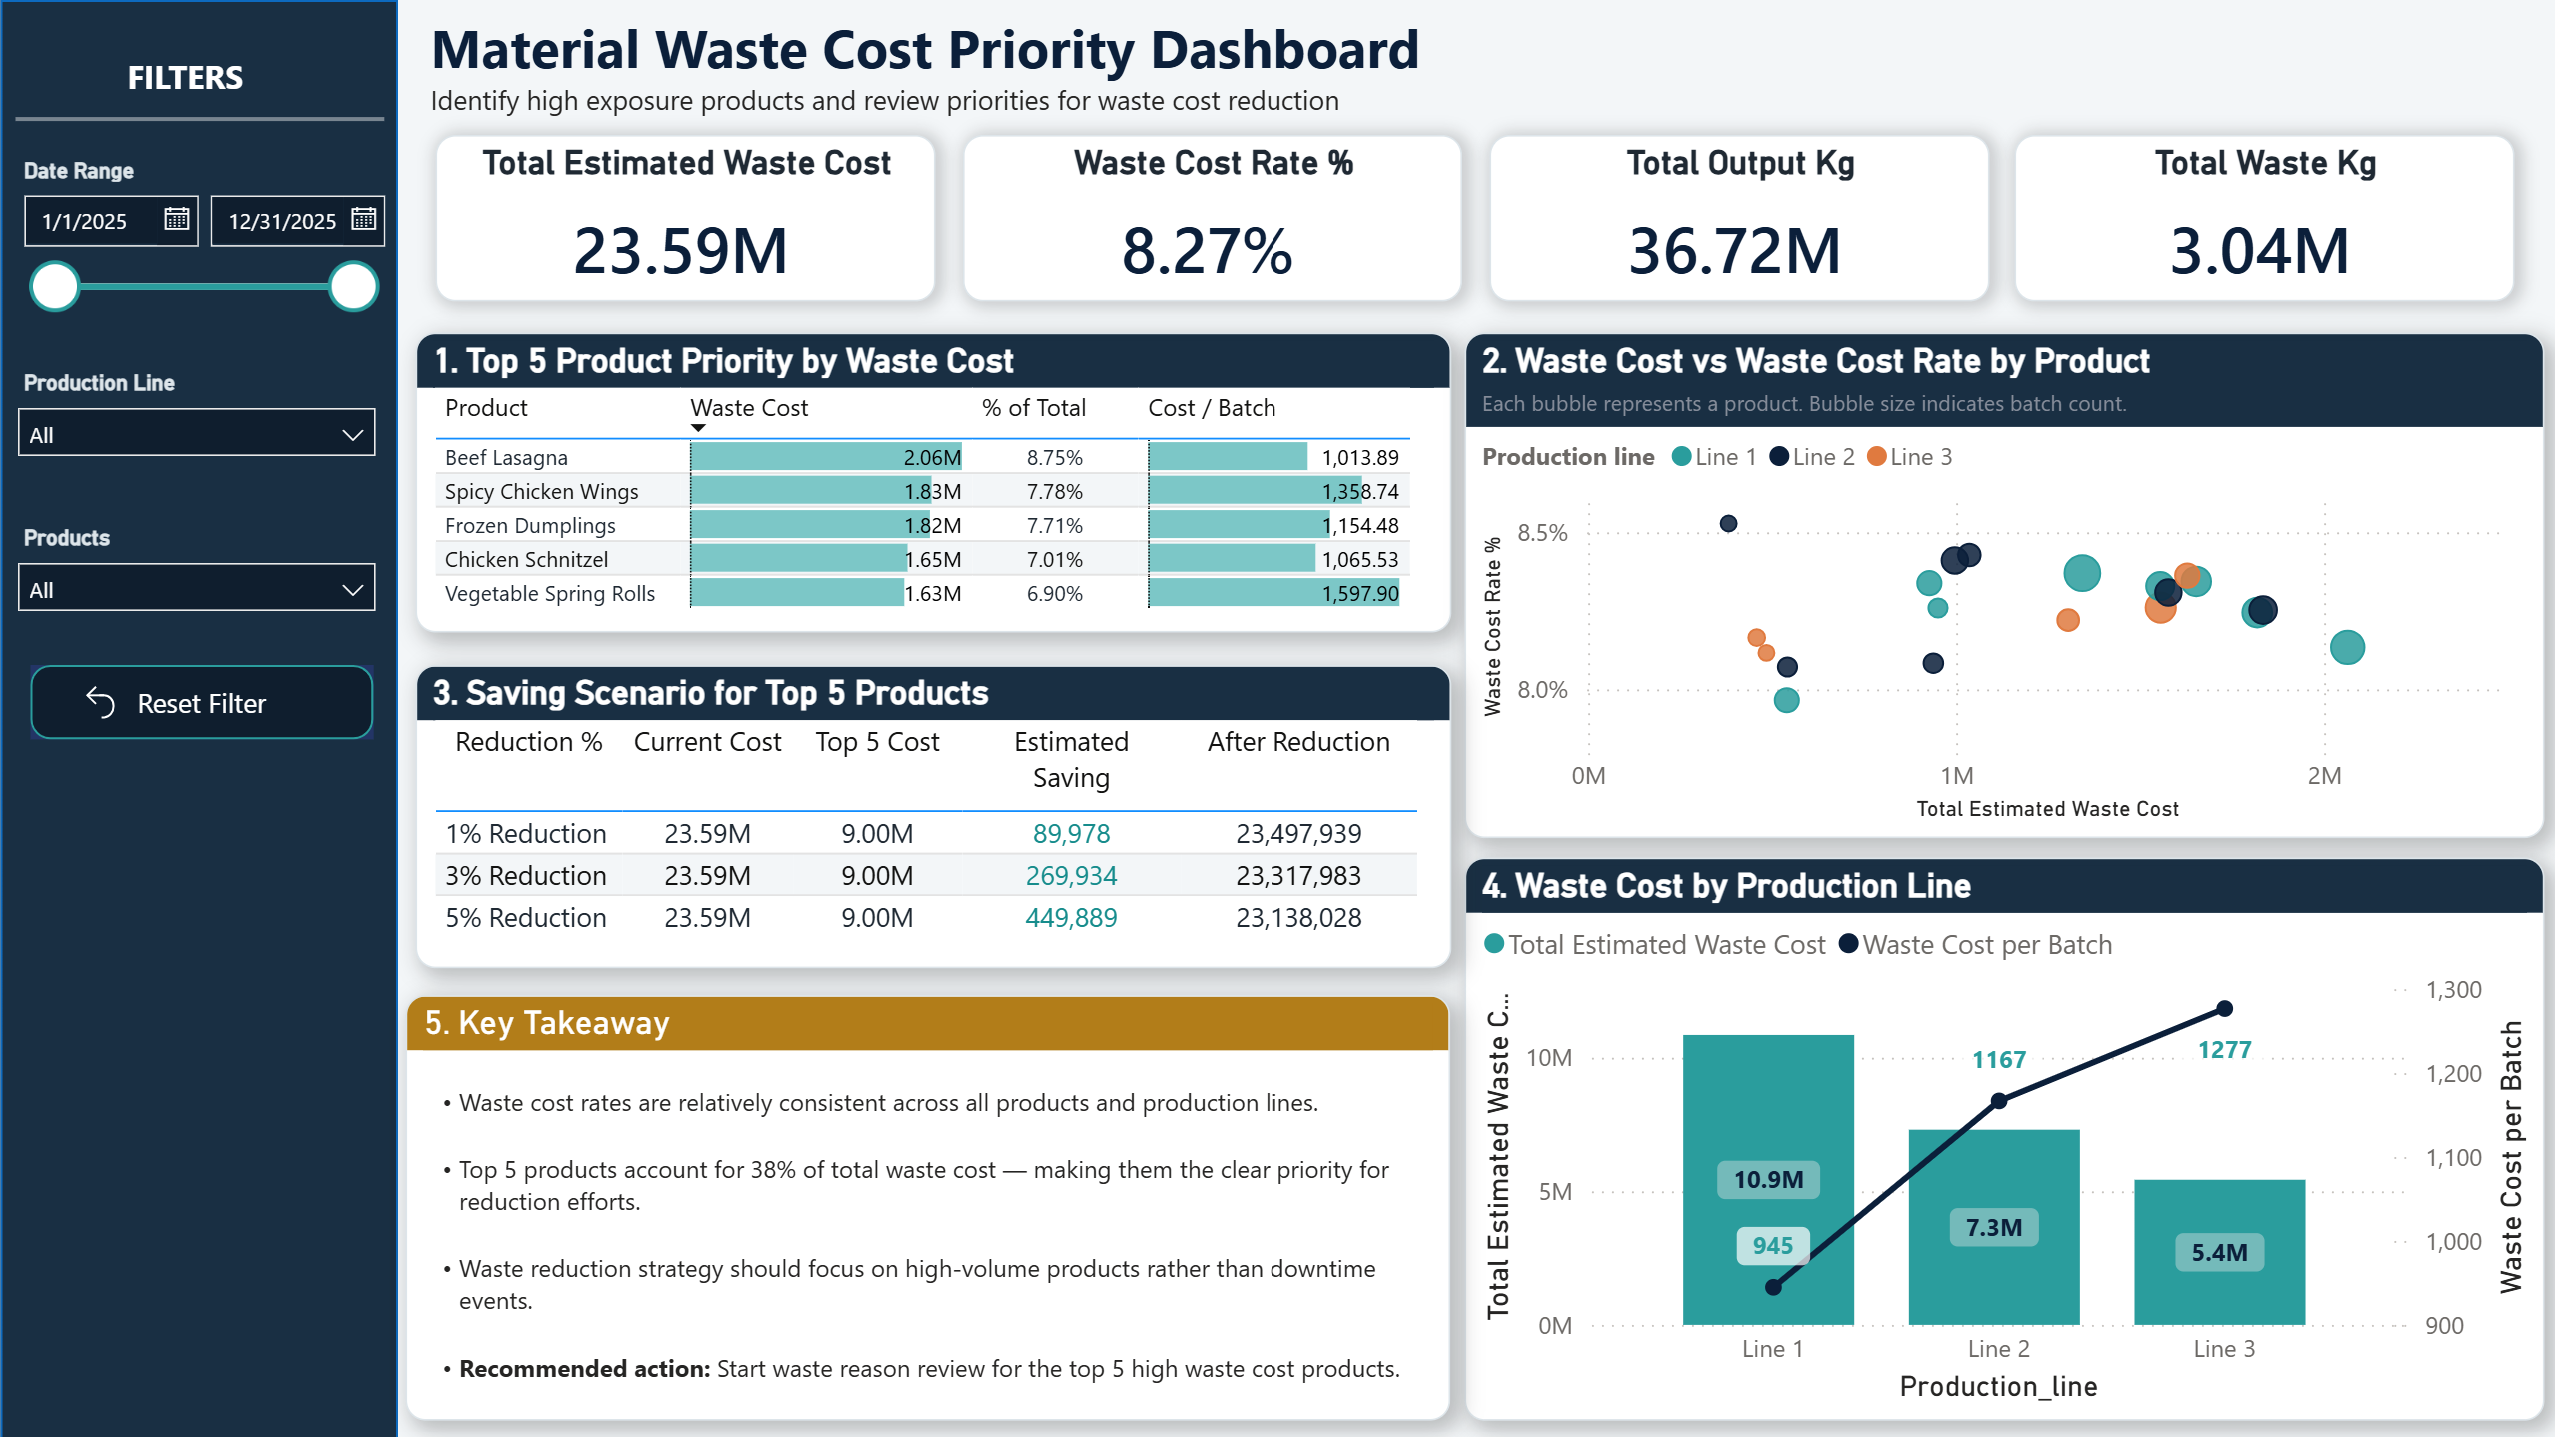

What the dashboard file says about the page in this screenshot:
{"tool":"powerbi","page":{"name":"priority","canvas":[1280,720],"ordinal":0},"visuals":[{"type":"shape","box":[1.2,0,198.8,720],"z":0},{"type":"textbox","box":[211.2,0,1067.5,73.8],"z":1000},{"type":"actionButton","box":[0,17.3,187.3,40],"z":2000},{"type":"slicer","title":"cfdffddfd","fields":{"Values":["01_production_log.Production_date"]},"box":[0,73.8,198.8,91.2],"z":3000},{"type":"slicer","fields":{"Values":["01_production_log.Production_line"]},"box":[0,180,198.8,71.2],"z":4000},{"type":"slicer","fields":{"Values":["03_products.Product_name"]},"box":[0,257.5,198.8,61.2],"z":5000},{"type":"actionButton","box":[15.7,332.9,171.4,37.1],"z":6000},{"type":"cardVisual","title":"Total Estimated Waste Cost","fields":{"Data":["Measure.Total Estimated Waste Cost"]},"box":[219.1,68.1,250,83],"z":7000},{"type":"cardVisual","title":"Waste Cost Rate %","fields":{"Data":["Measure.Waste Cost Rate %"]},"box":[482.4,68.1,250,83],"z":8000},{"type":"cardVisual","title":"Total Waste Kg","fields":{"Data":["Measure.Total Waste Kg"]},"box":[1008.9,68.1,250,83],"z":9000},{"type":"cardVisual","title":"Total Output Kg","fields":{"Data":["Measure.Total Output Kg"]},"box":[745.7,68.1,250,83],"z":10000},{"type":"tableEx","title":"1. Top 5 Product Priority by Waste Cost","fields":{"Values":["03_products.Product_name","Measure.Total Estimated Waste Cost","Measure.Product Waste Share %","Measure.Waste Cost per Batch"]},"box":[208.6,165.7,518.6,150],"z":11000},{"type":"scatterChart","title":"2. Waste Cost vs Waste Cost Rate by Product","fields":{"X":["Measure.Total Estimated Waste Cost"],"Y":["Measure.Waste Cost Rate %"],"Size":["Measure.Batch Count"],"Series":["03_products.Production_line"],"Category":["03_products.Product_name"]},"box":[734.3,165.7,540,252.9],"z":12000},{"type":"lineClusteredColumnComboChart","title":"4. Waste Cost by Production Line","fields":{"Category":["03_products.Production_line"],"Y":["Measure.Total Estimated Waste Cost"],"Y2":["Measure.Waste Cost per Batch"]},"box":[734.3,428.6,540,281.4],"z":13000},{"type":"tableEx","title":"3. Saving Scenario for Top 5 Products","fields":{"Values":["Reduction Scenario.Reduction %","Measure.Total Estimated Waste Cost","Reduction Scenario.Top 5 Product Waste Cost","Reduction Scenario.Estimated Saving","Reduction Scenario.Estimated Cost After Reduction"]},"box":[208.6,332.9,518.6,151.4],"z":14000},{"type":"textbox","title":"5. Key Takeaway","box":[204.3,497.1,522.9,212.9],"z":15000},{"type":"shape","box":[8.2,30,184.5,59.1],"z":16000}]}

Visuals, with their boxes in screenshot pixels (x1, y1, x2, y2), scaled from the page's 1280x720 canvas onto the 2555x1437 screenshot:
shape: x1=2 y1=0 x2=399 y2=1436
textbox: x1=422 y1=0 x2=2552 y2=147
actionButton: x1=0 y1=35 x2=374 y2=114
"cfdffddfd" slicer: x1=0 y1=147 x2=397 y2=329
slicer - 01_production_log.Production_line: x1=0 y1=359 x2=397 y2=501
slicer - 03_products.Product_name: x1=0 y1=514 x2=397 y2=636
actionButton: x1=31 y1=664 x2=373 y2=738
"Total Estimated Waste Cost" cardVisual: x1=437 y1=136 x2=936 y2=302
"Waste Cost Rate %" cardVisual: x1=963 y1=136 x2=1462 y2=302
"Total Waste Kg" cardVisual: x1=2014 y1=136 x2=2513 y2=302
"Total Output Kg" cardVisual: x1=1488 y1=136 x2=1988 y2=302
"1. Top 5 Product Priority by Waste Cost" tableEx: x1=416 y1=331 x2=1452 y2=630
"2. Waste Cost vs Waste Cost Rate by Product" scatterChart: x1=1466 y1=331 x2=2544 y2=835
"4. Waste Cost by Production Line" lineClusteredColumnComboChart: x1=1466 y1=855 x2=2544 y2=1417
"3. Saving Scenario for Top 5 Products" tableEx: x1=416 y1=664 x2=1452 y2=967
"5. Key Takeaway" textbox: x1=408 y1=992 x2=1452 y2=1417
shape: x1=16 y1=60 x2=385 y2=178
